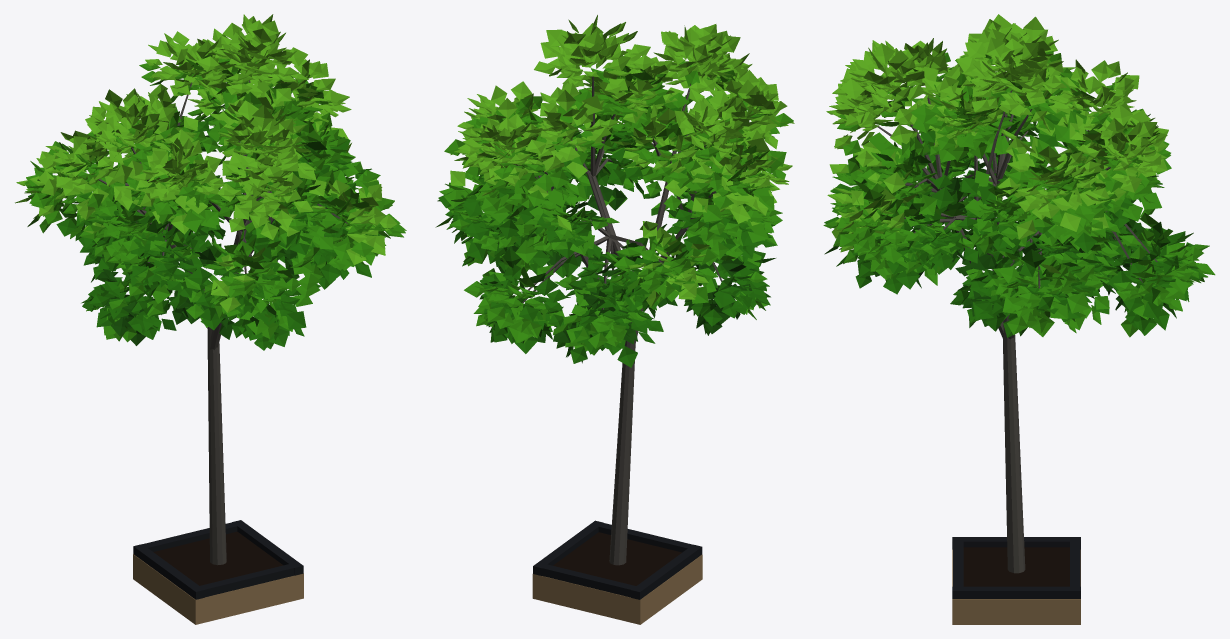
File: PV_StreetTree0.fbx
The picture shows the model from 3 angles, left to right: view 1: azimuth 30°, elevation 25°; view 2: azimuth 150°, elevation 25°; view 3: azimuth 270°, elevation 25°; orthographic projection. The views are drawn at different scales.
Visible parts, largest first — view 1: PV_StreetTree0_LOD0; view 2: PV_StreetTree0_LOD0; view 3: PV_StreetTree0_LOD0.
Part boxes in pixels (x1,y1,x2,y2): PV_StreetTree0_LOD0: [15, 14, 406, 624]; PV_StreetTree0_LOD0: [435, 15, 794, 624]; PV_StreetTree0_LOD0: [823, 14, 1215, 624].
Size of what is drawn, in the model's own units: 4.45 by 7.18 by 4.43.
Materials: 1 (1 with a texture image).
